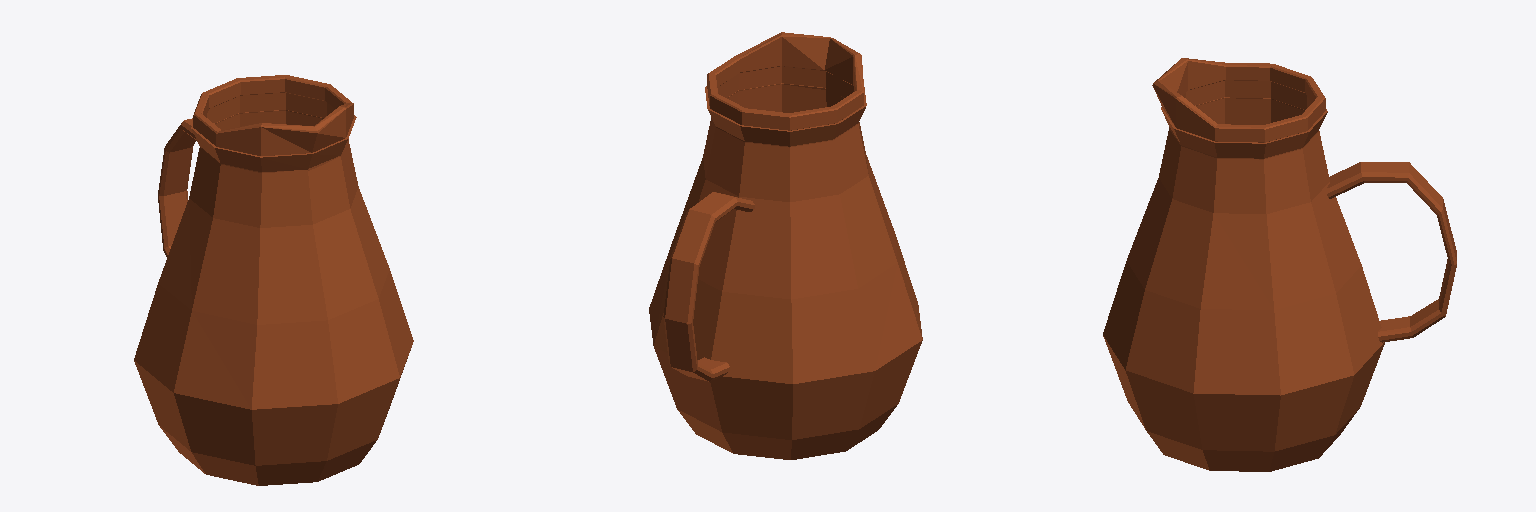
File: Milkjar1.obj
The picture shows the model from 3 angles: view 1: azimuth 30°, elevation 25°; view 2: azimuth 150°, elevation 25°; view 3: azimuth 270°, elevation 25°; orthographic projection.
Visible parts, largest first — view 1: MilkJar1_Cylinder.004; view 2: MilkJar1_Cylinder.004; view 3: MilkJar1_Cylinder.004.
Part boxes in pixels (x1,y1,x2,y2): MilkJar1_Cylinder.004: (134, 75, 413, 485); MilkJar1_Cylinder.004: (649, 32, 922, 459); MilkJar1_Cylinder.004: (1103, 58, 1456, 471).
Bounding box in the file's own units: 0.3433 × 0.4894 × 0.4444.